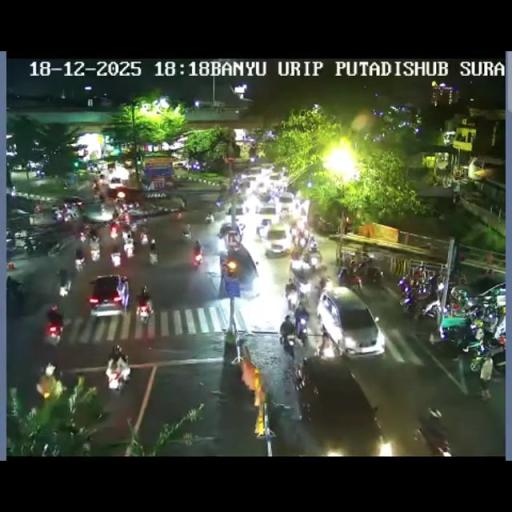Car: (294, 357, 384, 448), (316, 286, 386, 358), (88, 273, 130, 316), (260, 220, 290, 254), (102, 185, 148, 207), (58, 196, 88, 212), (255, 204, 278, 222), (278, 192, 295, 214), (243, 174, 261, 192), (230, 202, 247, 218), (268, 171, 283, 188), (109, 176, 123, 189), (259, 162, 274, 174), (172, 159, 189, 169)
Motorcycle: (278, 212, 333, 350), (74, 214, 156, 268), (399, 275, 441, 319), (56, 421, 106, 454), (436, 315, 475, 354), (418, 416, 452, 454), (468, 338, 500, 375), (106, 344, 130, 388), (289, 222, 315, 252), (6, 276, 26, 315), (370, 410, 388, 443), (338, 266, 362, 290), (479, 308, 501, 334), (266, 401, 294, 421), (135, 295, 154, 324), (292, 358, 308, 392), (450, 287, 470, 314), (43, 318, 62, 346), (364, 264, 383, 286), (304, 245, 322, 268), (286, 284, 300, 312), (280, 332, 295, 358), (47, 238, 67, 257), (315, 215, 335, 234), (294, 316, 308, 342), (354, 253, 374, 271), (190, 245, 204, 269), (450, 268, 468, 286), (58, 275, 72, 296), (89, 238, 101, 261), (297, 278, 311, 297), (472, 322, 485, 342), (318, 274, 330, 294), (226, 233, 240, 250), (24, 237, 36, 255), (110, 248, 122, 266), (268, 187, 282, 202), (124, 237, 134, 257), (78, 226, 90, 242), (6, 235, 16, 254), (412, 266, 423, 283), (74, 252, 84, 270), (148, 247, 158, 265), (54, 208, 66, 222), (428, 406, 442, 418), (128, 222, 137, 240), (112, 202, 122, 218), (139, 230, 149, 245), (110, 223, 119, 239), (236, 220, 246, 234), (230, 182, 240, 196), (122, 212, 131, 226), (92, 186, 101, 200), (182, 227, 191, 240), (34, 168, 45, 178), (219, 182, 228, 194), (452, 191, 460, 204), (205, 212, 214, 223), (215, 198, 224, 208), (483, 268, 494, 276), (132, 202, 140, 211), (116, 191, 125, 199), (176, 209, 182, 220)
